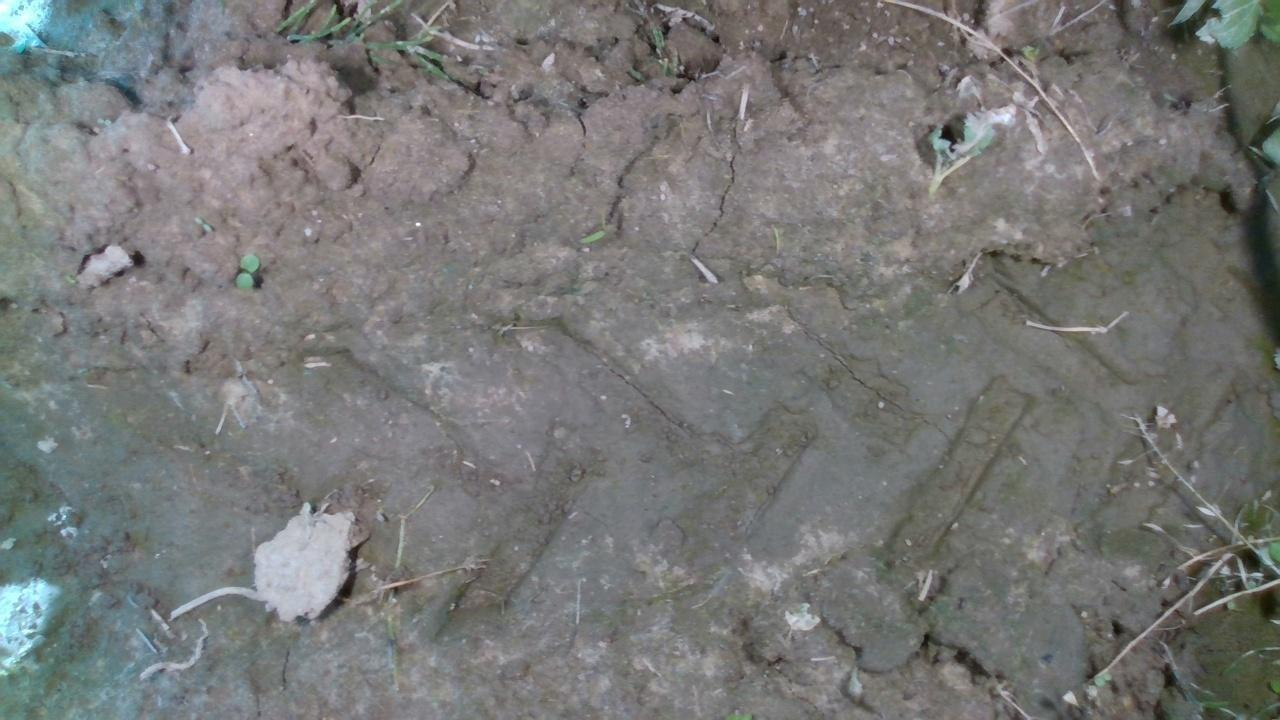weed: (577, 198, 607, 244), (233, 251, 259, 291), (191, 215, 212, 232)
